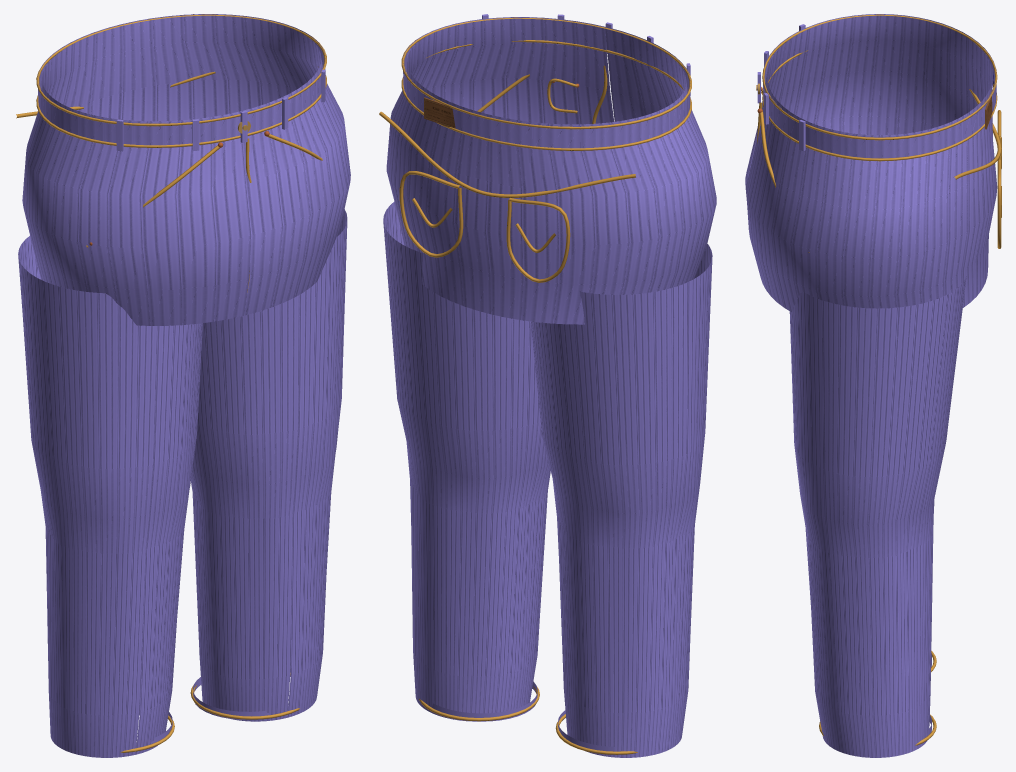
Rendered from jeans.glb.
3 views of the same model, side by side, from view 1: azimuth 30°, elevation 25°; view 2: azimuth 150°, elevation 25°; view 3: azimuth 270°, elevation 25° (orthographic). The views are drawn at different scales.
Parts seen in each view (by area): view 1: RIWI jeans; view 2: RIWI jeans; view 3: RIWI jeans.
Part boxes in pixels (<box>): RIWI jeans: <box>16,14,350,757</box>; RIWI jeans: <box>379,14,716,757</box>; RIWI jeans: <box>745,14,1001,757</box>.
Bounding box in the file's own units: 1.3 × 2.65 × 0.9834.
Materials: 7 (4 with a texture image).
